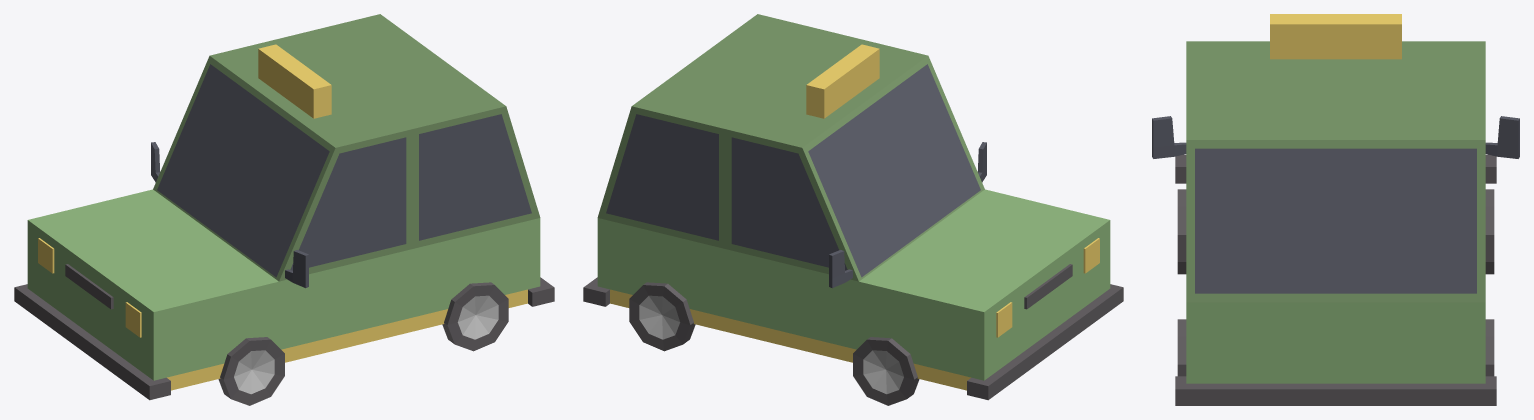
The model's file is BasicCar03.fbx.
3 renders of one model, left to right at view 1: azimuth 30°, elevation 25°; view 2: azimuth 150°, elevation 25°; view 3: azimuth 270°, elevation 25°, orthographic. The views are drawn at different scales.
Visible parts, largest first — view 1: Tico_car03; view 2: Tico_car03; view 3: Tico_car03.
Part boxes in pixels (x1,y1,x2,y2): Tico_car03: [14, 14, 554, 405]; Tico_car03: [583, 14, 1123, 405]; Tico_car03: [1152, 14, 1519, 405].
Bounding box in the file's own units: 25.64 × 16.99 × 15.92.
